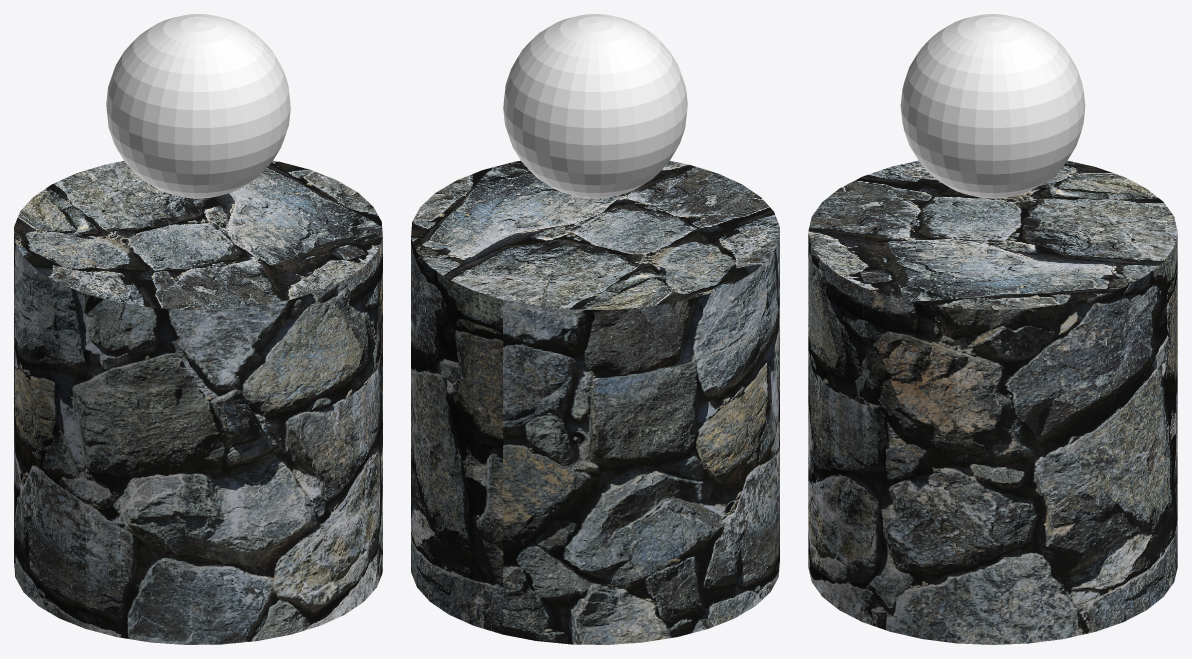
File: Armor.fbx
The picture shows the model from 3 angles, left to right: view 1: azimuth 30°, elevation 25°; view 2: azimuth 150°, elevation 25°; view 3: azimuth 270°, elevation 25°; orthographic projection.
Visible parts, largest first — view 1: Body, Head; view 2: Body, Head; view 3: Body, Head.
Part boxes in pixels (box(x1,y1,x2,y2)): Body: box(14, 160, 382, 644); Head: box(106, 14, 290, 198); Body: box(411, 160, 779, 644); Head: box(503, 14, 687, 198); Body: box(808, 160, 1177, 644); Head: box(900, 14, 1085, 198).
Bounding box in the file's own units: 80 × 130 × 80.
